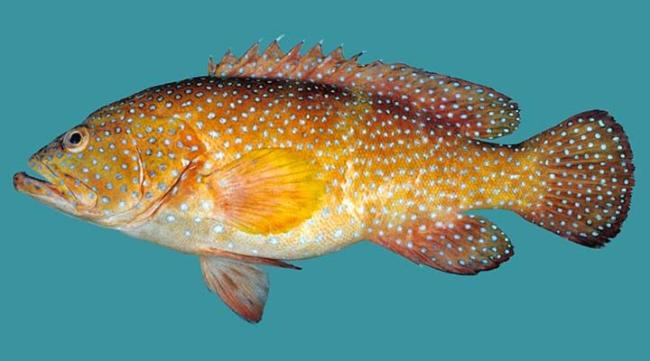fish: (12, 38, 635, 324)
